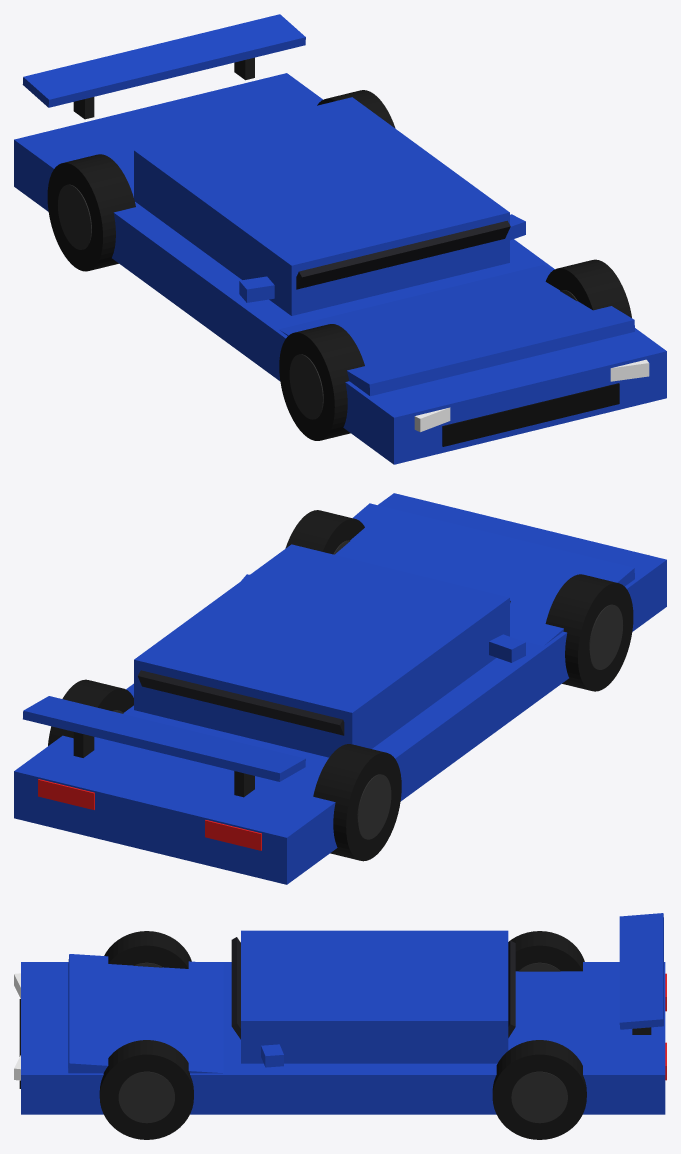
Rendered from ai_parts_f56c32.glb.
3 renders of one model, top to bottom at view 1: azimuth 30°, elevation 25°; view 2: azimuth 150°, elevation 25°; view 3: azimuth 270°, elevation 25°, orthographic. The views are drawn at different scales.
Visible parts, largest first — view 1: 02_cabin_roof, 00_main_body, 01_hood_slope, 13_spoiler_wing, 07_rear_left_wheel, 05_front_left_wheel, 03_windshield, 16_front_grille, 06_front_right_wheel, 09_front_left_rim, 11_rear_left_rim, 08_rear_right_wheel (+1 smaller); view 2: 02_cabin_roof, 00_main_body, 01_hood_slope, 13_spoiler_wing, 07_rear_left_wheel, 05_front_left_wheel, 04_rear_window, 06_front_right_wheel, 08_rear_right_wheel, 11_rear_left_rim, 09_front_left_rim, 19_left_taillight (+2 smaller); view 3: 00_main_body, 02_cabin_roof, 01_hood_slope, 08_rear_right_wheel, 06_front_right_wheel, 13_spoiler_wing, 05_front_left_wheel, 12_rear_right_rim, 10_front_right_rim, 07_rear_left_wheel, 03_windshield, 04_rear_window (+1 smaller).
Part boxes in pixels (box(x1,y1,x2,y2)): 02_cabin_roof: box(134, 97, 509, 315); 00_main_body: box(14, 73, 666, 464); 01_hood_slope: box(279, 265, 634, 396); 13_spoiler_wing: box(22, 14, 305, 107); 07_rear_left_wheel: box(47, 154, 135, 271); 05_front_left_wheel: box(279, 324, 364, 440); 03_windshield: box(296, 220, 510, 289); 16_front_grille: box(442, 383, 619, 446); 06_front_right_wheel: box(545, 259, 631, 317); 09_front_left_rim: box(289, 354, 323, 419); 11_rear_left_rim: box(58, 184, 91, 249); 08_rear_right_wheel: box(317, 90, 395, 128); 02_cabin_roof: box(134, 544, 509, 757); 00_main_body: box(14, 493, 666, 884); 01_hood_slope: box(334, 503, 634, 645); 13_spoiler_wing: box(23, 696, 305, 781); 07_rear_left_wheel: box(313, 744, 401, 861); 05_front_left_wheel: box(545, 574, 633, 691); 04_rear_window: box(138, 670, 344, 735); 06_front_right_wheel: box(285, 510, 364, 554); 08_rear_right_wheel: box(48, 679, 133, 745); 11_rear_left_rim: box(357, 774, 391, 839); 09_front_left_rim: box(589, 604, 622, 669); 19_left_taillight: box(205, 820, 261, 850); 00_main_body: box(21, 962, 665, 1114); 02_cabin_roof: box(241, 930, 508, 1063); 01_hood_slope: box(68, 954, 223, 1073); 08_rear_right_wheel: box(492, 1040, 586, 1139); 06_front_right_wheel: box(99, 1040, 193, 1139); 13_spoiler_wing: box(619, 913, 663, 1029); 05_front_left_wheel: box(104, 931, 191, 968); 12_rear_right_rim: box(511, 1071, 567, 1123); 10_front_right_rim: box(118, 1071, 174, 1123); 07_rear_left_wheel: box(508, 931, 584, 971); 03_windshield: box(231, 937, 240, 1039); 04_rear_window: box(508, 940, 515, 1037).
Size of the model in its own units: 187 by 78.71 by 416.
